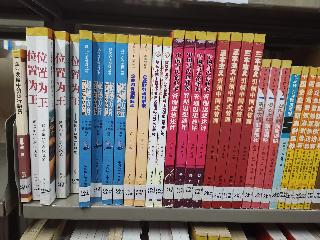book-spine: (229, 33, 265, 210), (220, 32, 254, 210), (200, 32, 232, 210), (210, 32, 242, 210), (282, 66, 319, 211), (266, 66, 302, 209), (275, 66, 310, 209), (259, 60, 292, 211), (250, 58, 282, 210), (180, 30, 207, 210), (241, 58, 271, 211), (192, 32, 217, 210), (171, 30, 195, 209), (291, 67, 320, 210), (163, 29, 184, 209), (151, 38, 173, 208), (143, 36, 164, 208), (132, 36, 153, 207), (10, 47, 31, 202), (110, 35, 129, 206), (99, 33, 117, 206), (122, 35, 140, 206), (35, 26, 51, 204), (76, 31, 92, 208), (25, 27, 41, 202), (52, 30, 67, 200), (92, 33, 105, 202), (67, 33, 80, 196)
